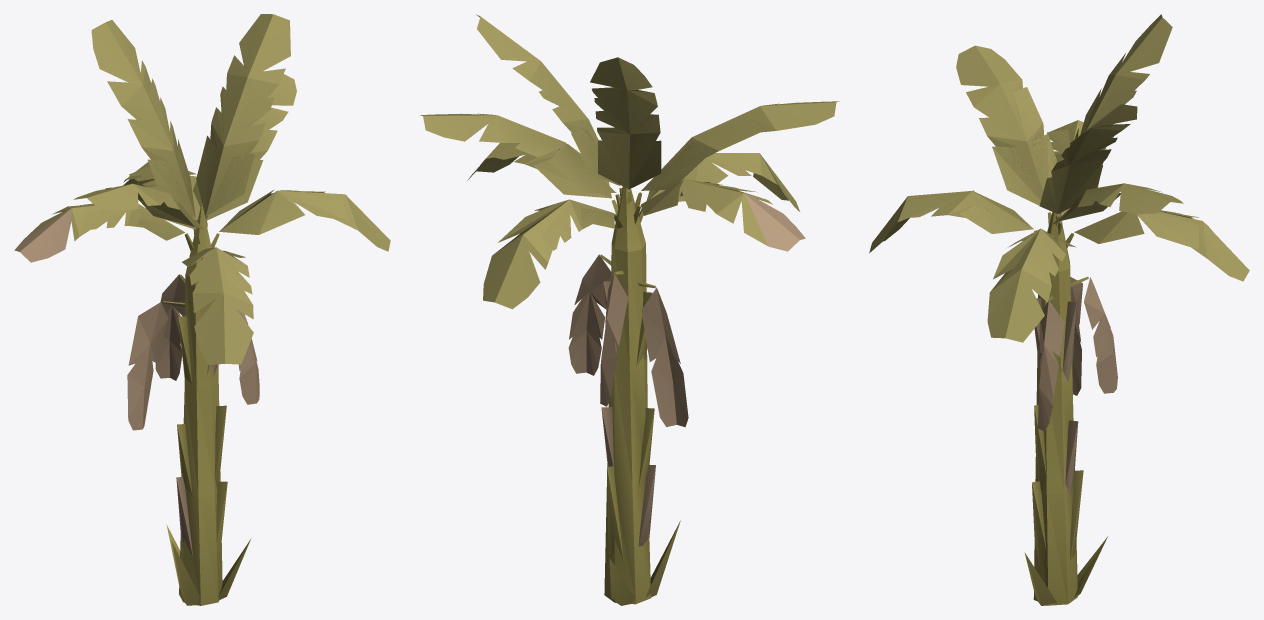
The model's file is banana.glb.
3 renders of one model, left to right at view 1: azimuth 30°, elevation 25°; view 2: azimuth 150°, elevation 25°; view 3: azimuth 270°, elevation 25°, orthographic. The views are drawn at different scales.
Parts seen in each view (by area): view 1: banana; view 2: banana; view 3: banana.
Part boxes in pixels (box(x1,y1,x2,y2)): banana: box(14, 14, 390, 605); banana: box(420, 14, 839, 605); banana: box(869, 14, 1249, 605).
Size of the model in its own units: 4.56 by 7.08 by 4.38.
